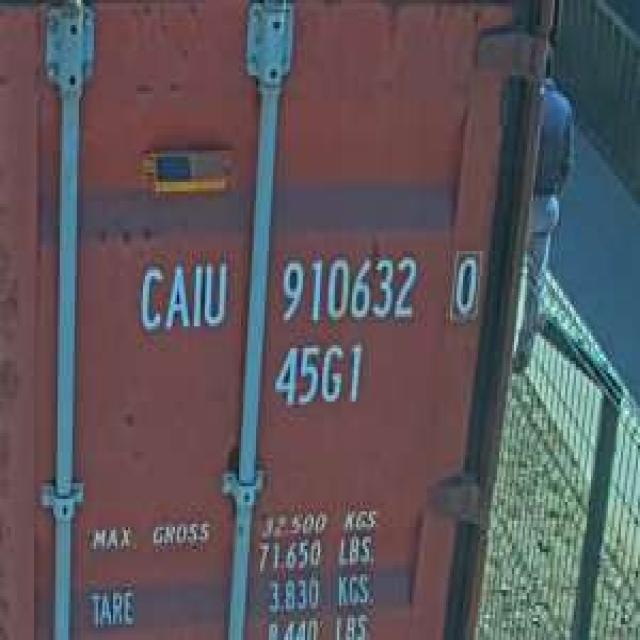dv: (443, 242, 488, 329)
owner: (132, 248, 230, 339)
serial: (275, 245, 420, 329)
size: (269, 336, 367, 414)
